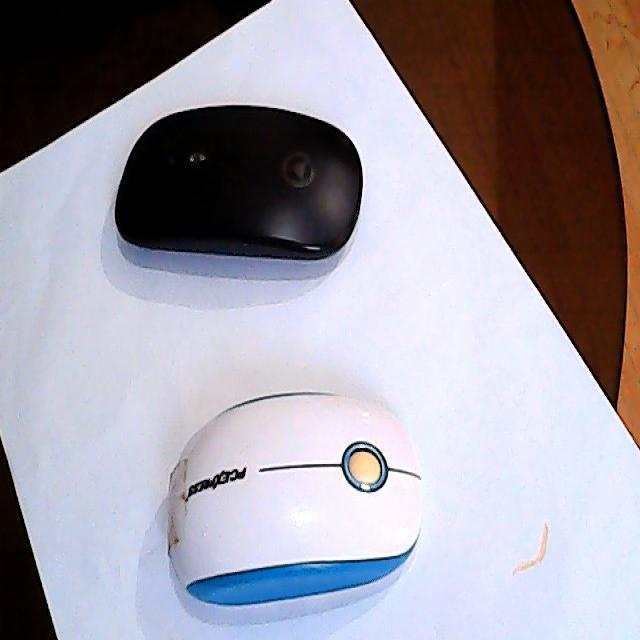-keyboard-: (114, 101, 366, 266)
-laptop-: (163, 388, 427, 606)
